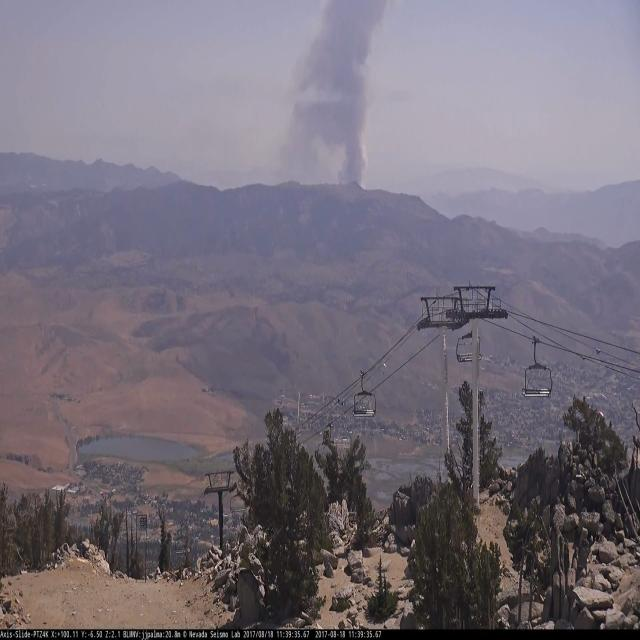smoke: (297, 0, 388, 182)
